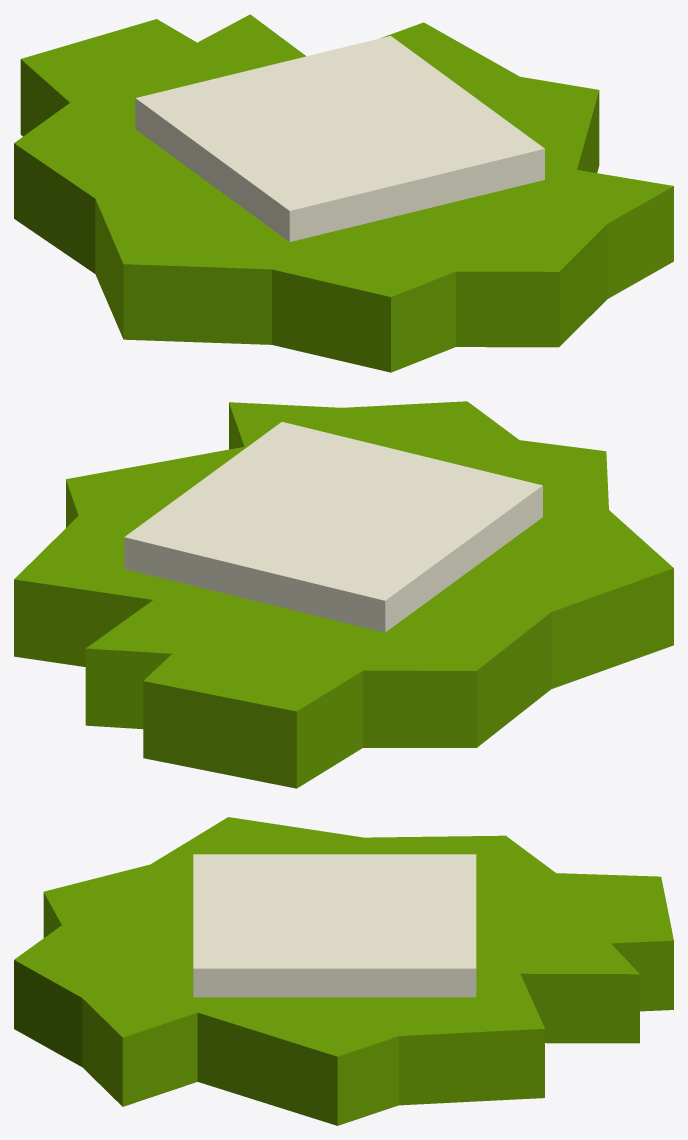
Rendered from SM_T_Plot.fbx.
3 views of the same model, one above another, from view 1: azimuth 30°, elevation 25°; view 2: azimuth 150°, elevation 25°; view 3: azimuth 270°, elevation 25° (orthographic). The views are drawn at different scales.
Visible parts, largest first — view 1: New_Game_Object_15, New_Game_Object_4; view 2: New_Game_Object_15, New_Game_Object_4; view 3: New_Game_Object_15, New_Game_Object_4.
Boxes of the visible parts, x1,y1,x2,y2 form: New_Game_Object_15: [14, 14, 673, 372]; New_Game_Object_4: [135, 36, 544, 241]; New_Game_Object_15: [14, 401, 673, 788]; New_Game_Object_4: [124, 422, 542, 632]; New_Game_Object_15: [14, 817, 673, 1125]; New_Game_Object_4: [193, 854, 476, 997].
Bounding box in the file's own units: 163 × 30.98 × 189.
